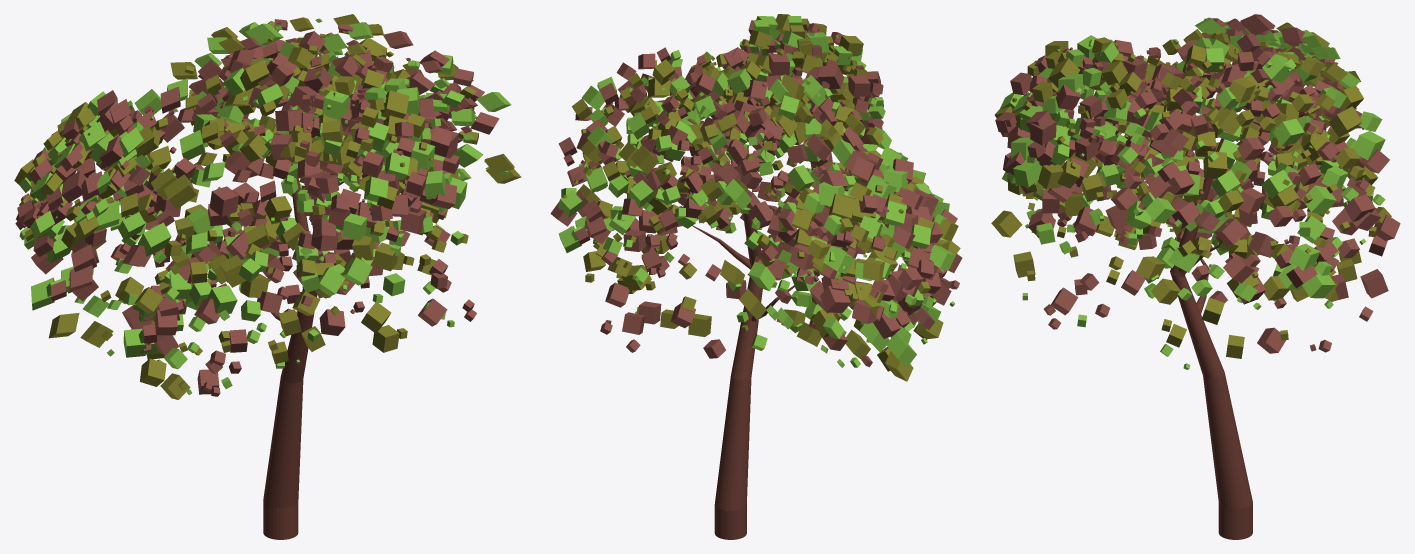
Rendered from tree.gltf.
3 renders of one model, left to right at view 1: azimuth 30°, elevation 25°; view 2: azimuth 150°, elevation 25°; view 3: azimuth 270°, elevation 25°, orthographic. The views are drawn at different scales.
Visible parts, largest first — view 1: leaves.006, leaves.003, leaves.002, leaves.001, leaves.004, leaves.005, leaves, Cylinder; view 2: leaves.005, leaves.004, leaves.003, leaves.001, leaves, leaves.006, Cylinder, leaves.002; view 3: leaves.005, leaves.001, leaves.006, leaves, Cylinder, leaves.003, leaves.004, leaves.002.
Part boxes in pixels (left/top/right/bottom): leaves.006: left=270, top=69, right=467, bottom=271; leaves.003: left=31, top=42, right=372, bottom=356; leaves.002: left=122, top=196, right=369, bottom=399; leaves.001: left=84, top=93, right=476, bottom=352; leaves.004: left=14, top=90, right=160, bottom=256; leaves.005: left=170, top=14, right=521, bottom=183; leaves: left=191, top=31, right=441, bottom=205; Cylinder: left=263, top=178, right=317, bottom=539; leaves.005: left=550, top=47, right=773, bottom=280; leaves.004: left=789, top=147, right=958, bottom=324; leaves.003: left=680, top=56, right=948, bottom=381; leaves.001: left=585, top=97, right=960, bottom=358; leaves: left=615, top=47, right=854, bottom=243; leaves.006: left=722, top=14, right=885, bottom=128; Cylinder: left=692, top=213, right=794, bottom=539; leaves.002: left=744, top=161, right=962, bottom=347; leaves.005: left=1110, top=47, right=1389, bottom=309; leaves.001: left=991, top=98, right=1400, bottom=369; leaves.006: left=994, top=35, right=1147, bottom=195; leaves: left=1068, top=37, right=1336, bottom=267; Cylinder: left=1170, top=138, right=1252, bottom=539; leaves.003: left=1095, top=29, right=1378, bottom=226; leaves.004: left=1195, top=14, right=1361, bottom=128; leaves.002: left=1022, top=125, right=1258, bottom=259.
Bounding box in the file's own units: 29.17 × 31.64 × 23.91.
